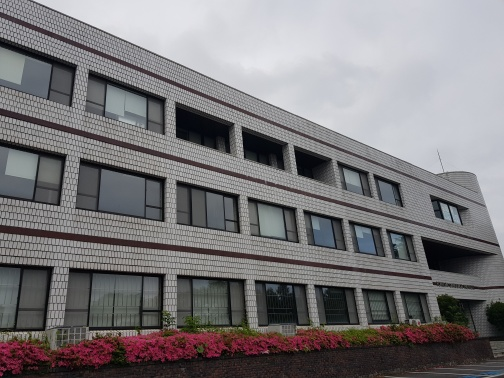Foreign Language Institute: (10, 11, 503, 351), (59, 252, 317, 364), (169, 176, 421, 263)
